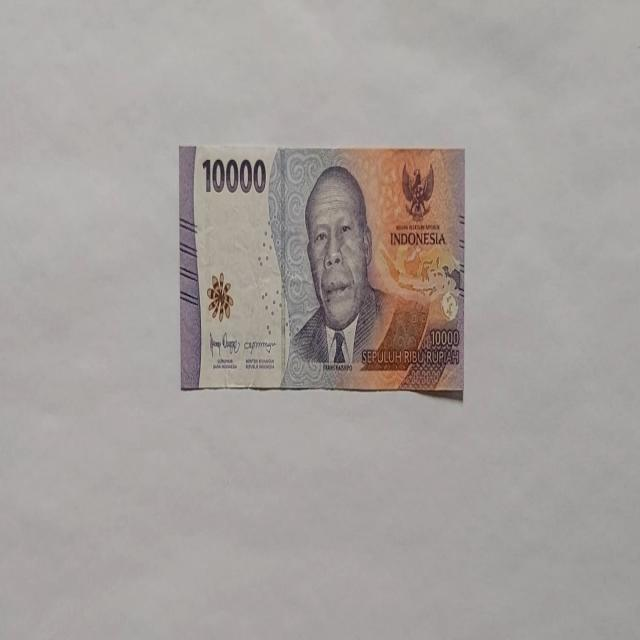sepuluh ribu rupiah: (178, 142, 466, 396), (278, 163, 428, 389)
